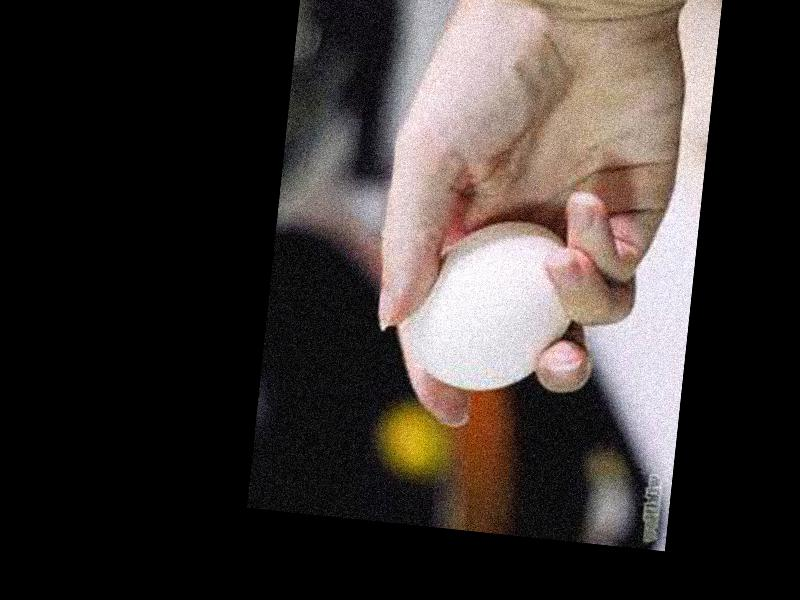Eggs: (403, 212, 578, 401)
